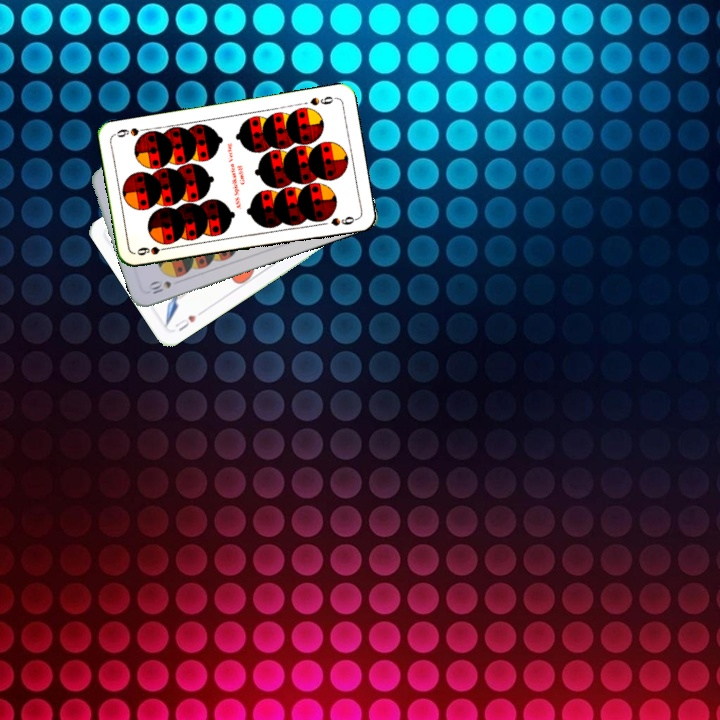HU: (171, 311, 199, 334)
S10: (146, 276, 174, 297)
S9: (133, 242, 173, 258), (306, 92, 339, 108)
